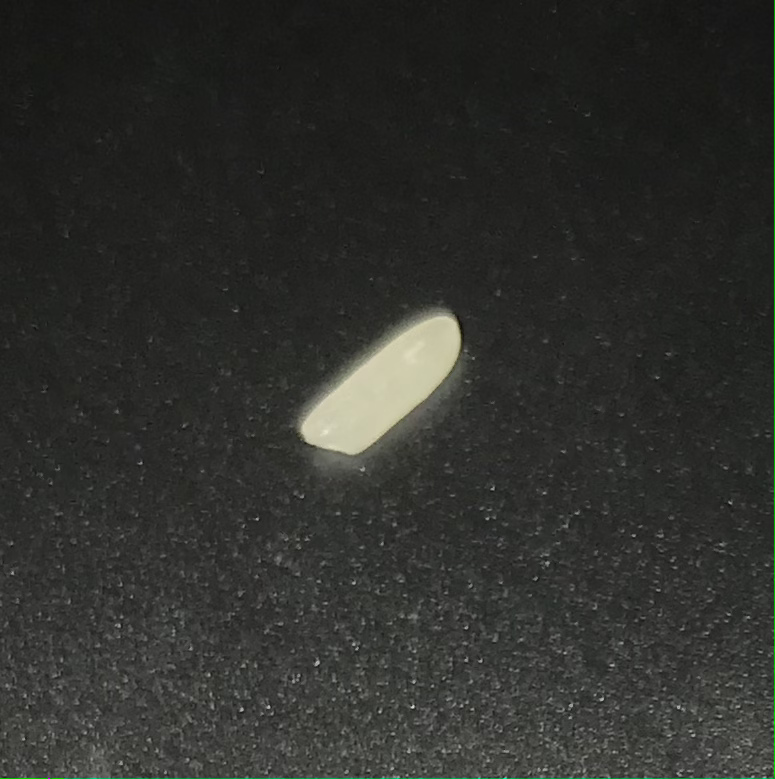Gao Thom My: (284, 290, 489, 462)
